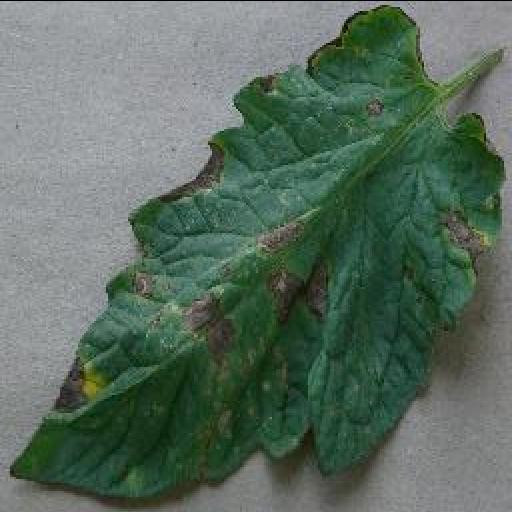Early Blight: (10, 6, 504, 504)
